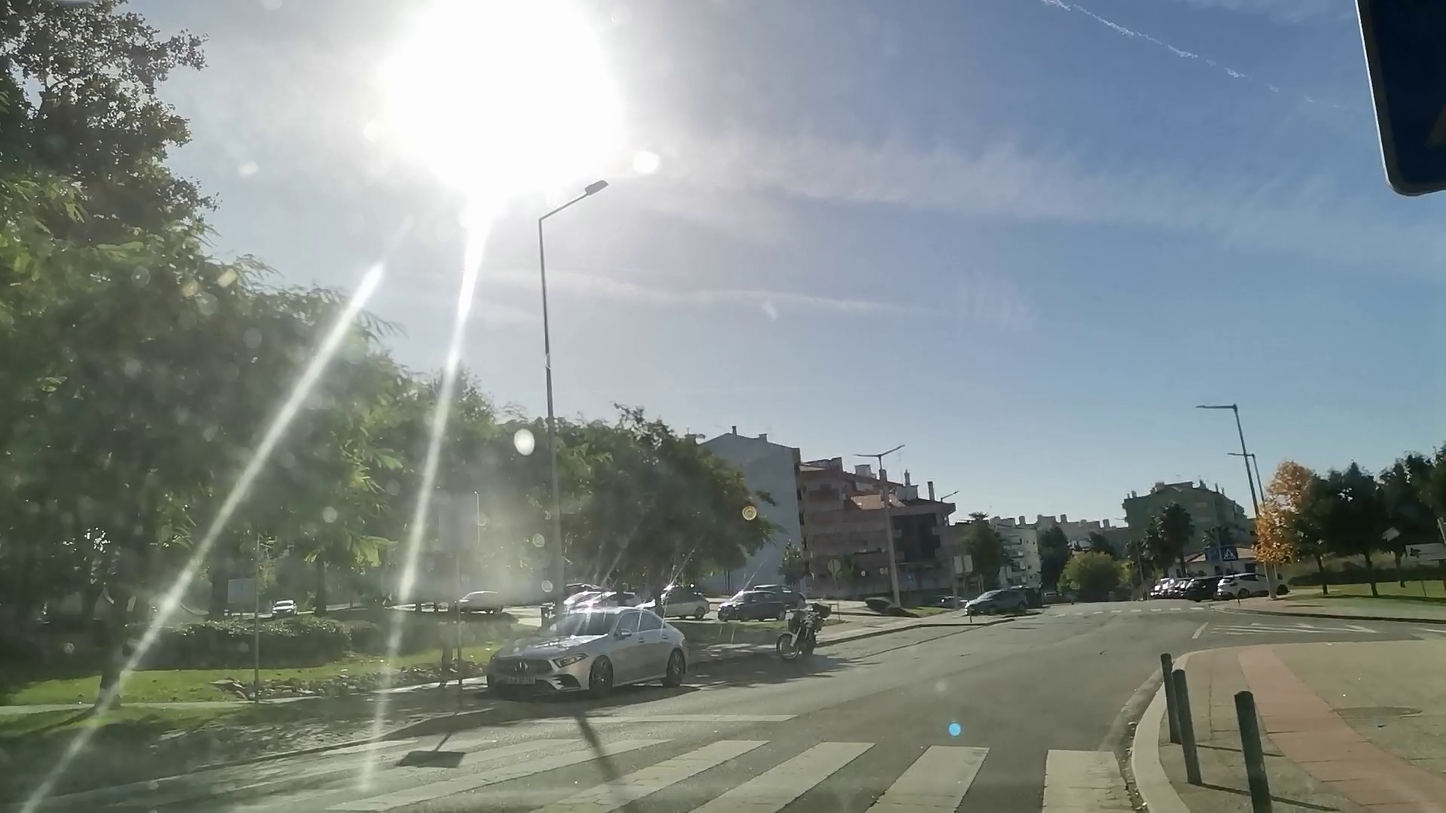Stairs: (40, 735, 1137, 813)
